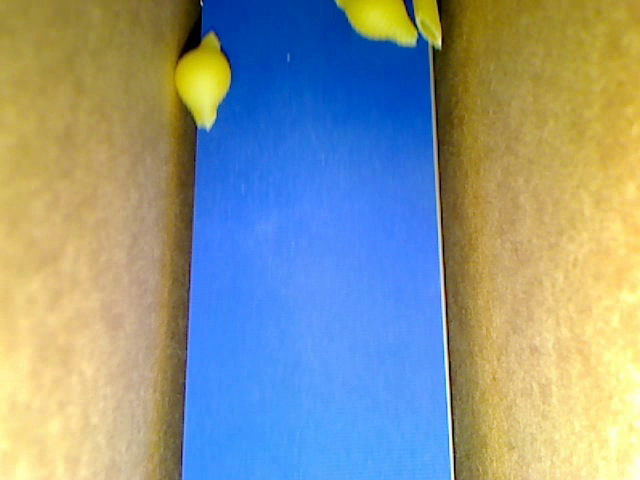penne: (412, 1, 442, 50)
shell: (176, 31, 232, 131), (335, 1, 419, 47)
